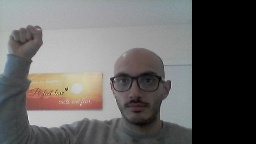Pugno: (4, 23, 44, 57)
